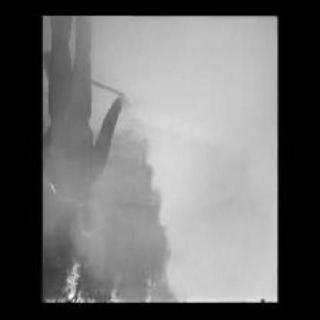Smoke: (148, 19, 276, 299)
